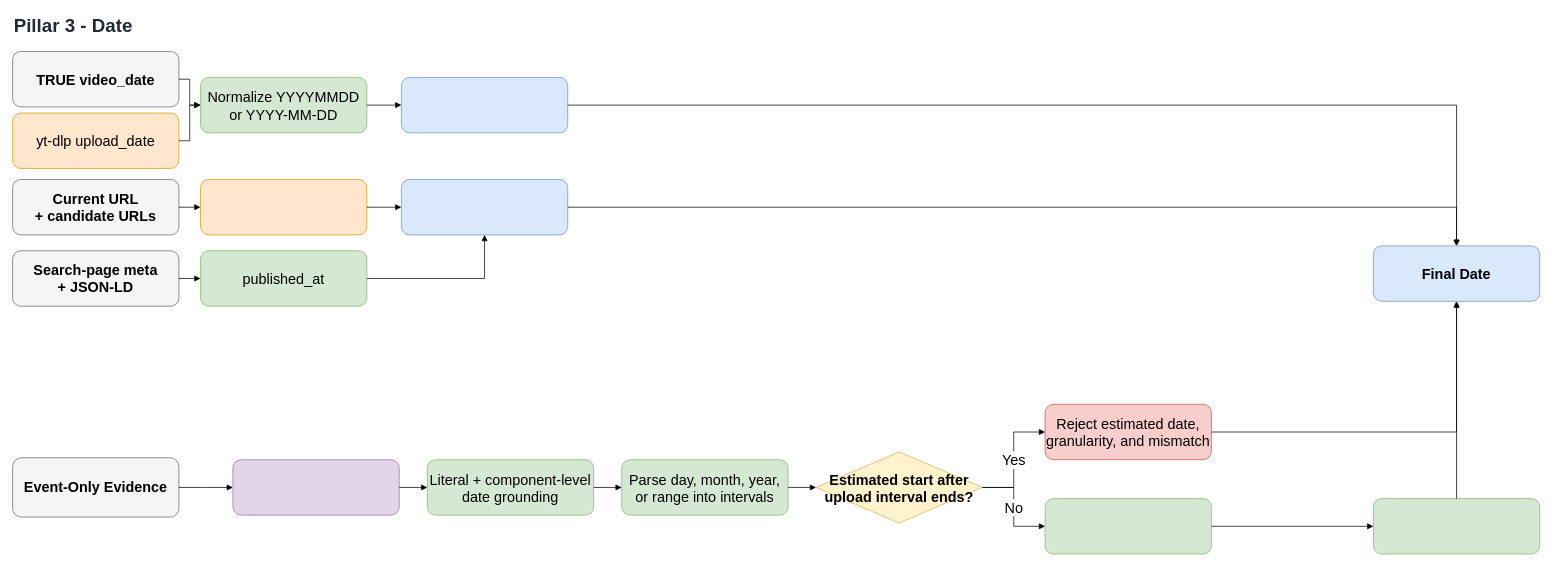
The diagram is 1552 pixels wide and 573 high, and some of its shapes have lost their labels. The shapes that lost their labels are listed below. From the top down, each one's centre as x and y in pixels, then its label:
the point at 484,105: video_upload_date
the point at 283,207: Wayback Snapshot
the point at 484,207: earliest_online_date + provenance earliest date
the point at 315,487: Qwen Date/Location
the point at 1127,526: Compare estimated and claimed intervals
the point at 1456,526: same / older video / newer video or preserved wrong event date
